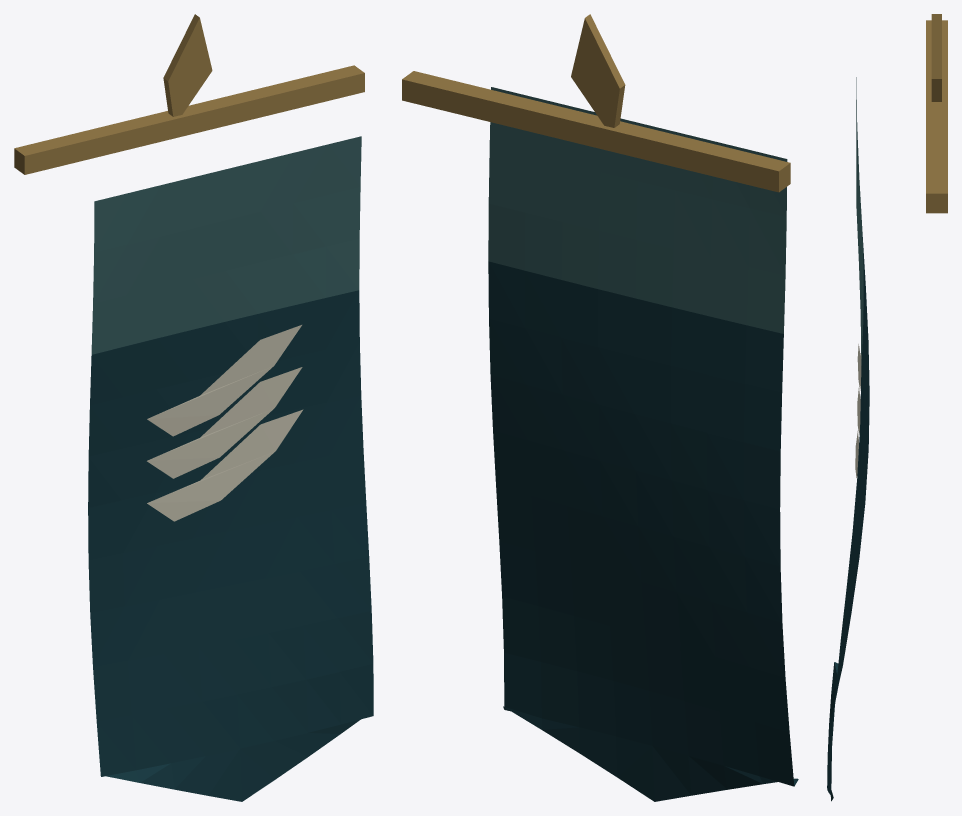
Rendered from WP_D03_wind_banner_wall_v02.glb.
3 views of the same model, side by side, from view 1: azimuth 30°, elevation 25°; view 2: azimuth 150°, elevation 25°; view 3: azimuth 270°, elevation 25° (orthographic). The views are drawn at different scales.
Visible parts, largest first — view 1: BannerCloth.001, WindEmblem.001, BannerSupport.001; view 2: BannerCloth.001, BannerSupport.001; view 3: BannerCloth.001, BannerSupport.001, WindEmblem.001.
Boxes of the visible parts, box(x1,y1,x2,y2) form: BannerCloth.001: box(88, 136, 373, 801); WindEmblem.001: box(147, 325, 303, 521); BannerSupport.001: box(14, 14, 364, 174); BannerCloth.001: box(488, 87, 798, 801); BannerSupport.001: box(402, 14, 790, 192); BannerCloth.001: box(827, 77, 869, 801); BannerSupport.001: box(926, 14, 947, 213); WindEmblem.001: box(855, 344, 861, 477).
Bounding box in the file's own units: 1.4 × 2.93 × 0.4125.
